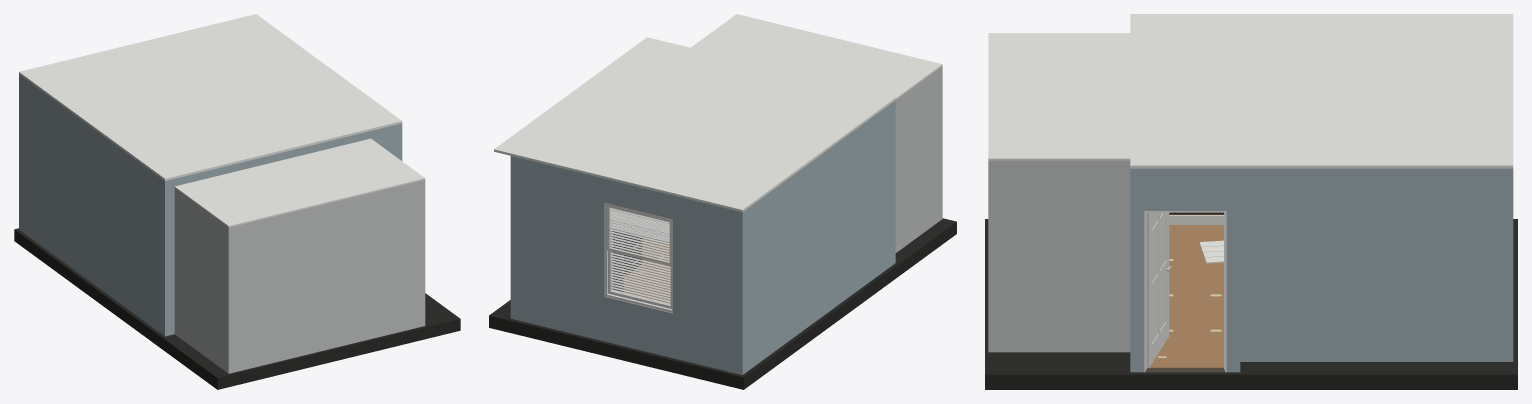
The model's file is office.glb.
3 views of the same model, side by side, from view 1: azimuth 30°, elevation 25°; view 2: azimuth 150°, elevation 25°; view 3: azimuth 270°, elevation 25° (orthographic). The views are drawn at different scales.
Visible parts, largest first — view 1: Closet Walls.001, Ceiling.001, Wall W.001, Closet Ceiling.001, Slab.001, Wall S.001, Wall N.001; view 2: Ceiling.001, Wall N.001, Wall W.001, Closet Ceiling.001, Slab.001, Closet Walls.001, Window Glass.001, blinds_new.001, Window Frame.001, Window Blind.001, Wall S.001, ramboard_3.001; view 3: Ceiling.001, Wall E.001, Closet Walls.001, Closet Ceiling.001, Slab.001, Wall N.001, Door Leaf.001, ramboard_4.001, ramboard_3.001, ramboard_2.001, ramboard_1.001, Door Jamb.001 (+3 smaller).
Boxes of the visible parts, x1,y1,x2,y2 form: Closet Walls.001: (174, 180, 425, 373); Ceiling.001: (19, 14, 402, 180); Wall W.001: (26, 79, 161, 333); Closet Ceiling.001: (174, 138, 425, 227); Slab.001: (14, 228, 460, 389); Wall S.001: (161, 123, 402, 336); Wall N.001: (19, 74, 25, 234); Ceiling.001: (494, 37, 895, 212); Wall N.001: (510, 156, 749, 374); Wall W.001: (750, 103, 891, 369); Closet Ceiling.001: (691, 14, 942, 99); Slab.001: (489, 218, 956, 389); Closet Walls.001: (895, 66, 942, 252); Window Glass.001: (610, 208, 670, 304); blinds_new.001: (610, 209, 670, 305); Window Frame.001: (605, 203, 672, 312); Window Blind.001: (610, 208, 669, 242); Wall S.001: (891, 100, 895, 265); ramboard_3.001: (624, 253, 670, 303); Ceiling.001: (1130, 14, 1513, 168); Wall E.001: (1130, 168, 1494, 372); Closet Walls.001: (988, 160, 1130, 352); Closet Ceiling.001: (988, 33, 1130, 160); Slab.001: (985, 219, 1517, 389); Wall N.001: (1494, 168, 1513, 361); Door Leaf.001: (1147, 212, 1169, 368); ramboard_4.001: (1149, 329, 1223, 367); ramboard_3.001: (1169, 294, 1223, 330); ramboard_2.001: (1169, 259, 1223, 295); ramboard_1.001: (1169, 225, 1223, 259); Door Jamb.001: (1144, 211, 1226, 372).
Bounding box in the file's own units: 4.24 × 2.83 × 6.15.
